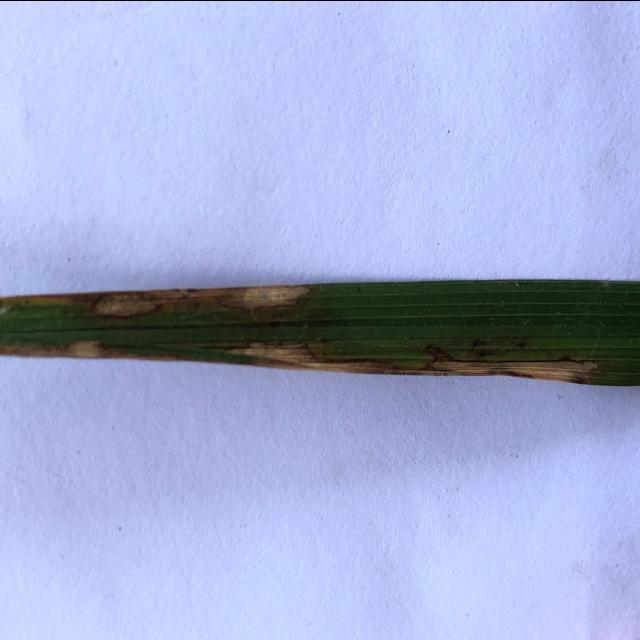Leaf Blight: (227, 343, 595, 382), (7, 282, 310, 320), (0, 338, 147, 359)
